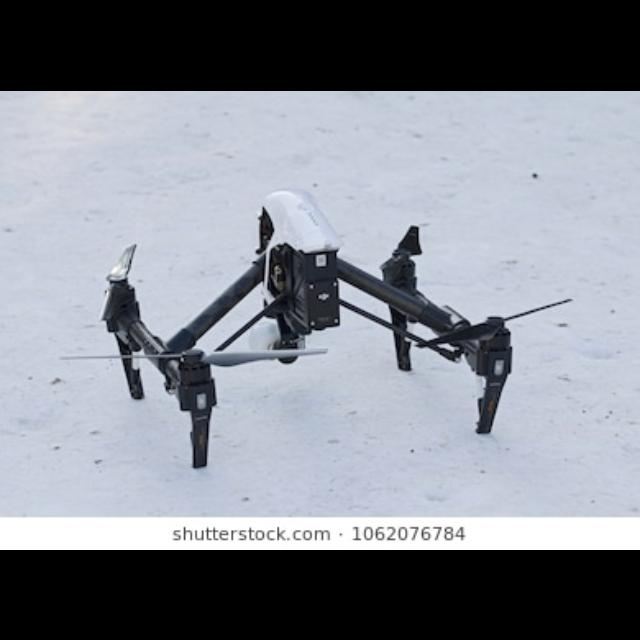Drone: (71, 180, 584, 476)
